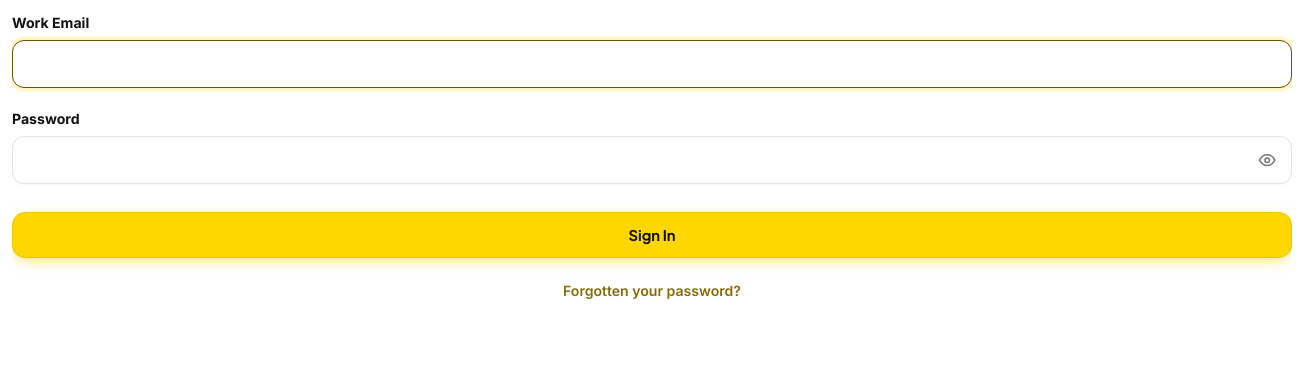
Test case: LoginForm › reports a network failure instead of hanging on 'Signing in…'
Type "hr@qonicsystems.com" into the field labelled "Work Email" at coordinates (652, 64), box [12,40,1292,88]
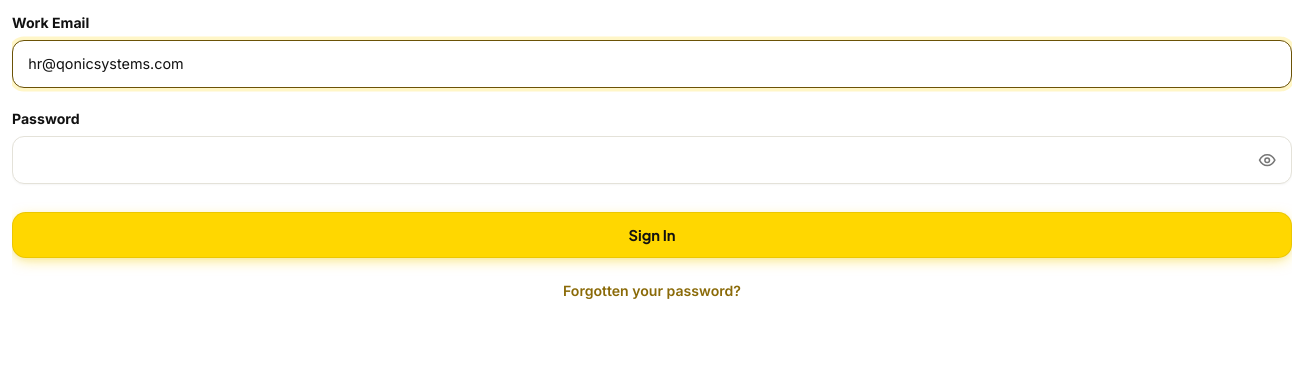
Type "Demo-Passw0rd" into the password field labelled "Password" at coordinates (652, 160), box [12,136,1292,184]
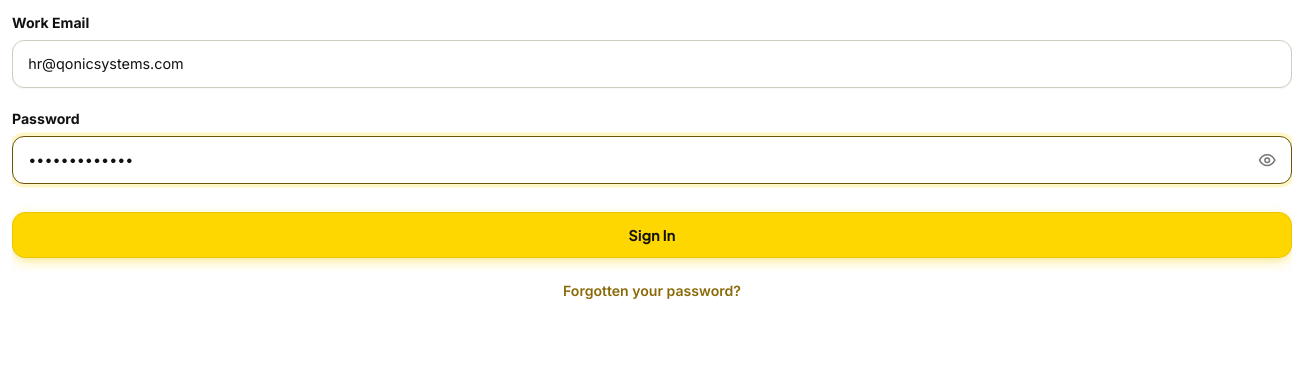
Click the button "Sign In" at coordinates (652, 235), box [12,212,1292,258]
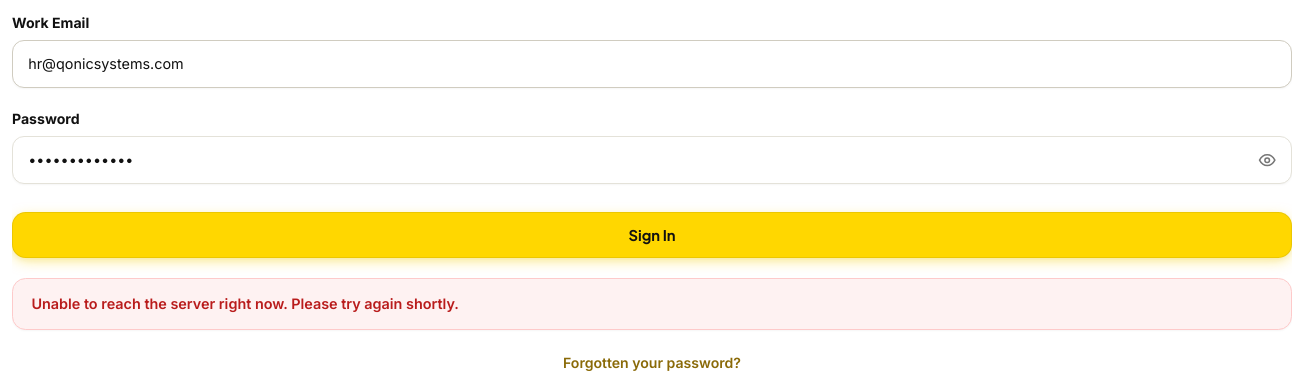
Expected: the message shows "Unable to reach the server", [31,295,459,312]
